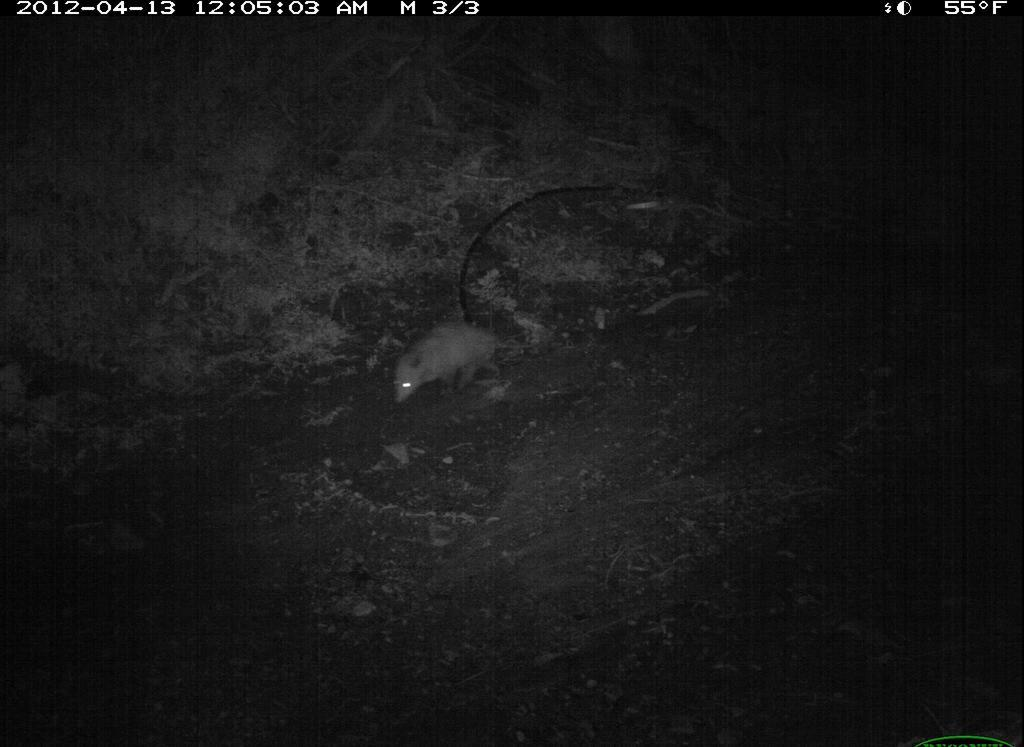opossum: (382, 306, 581, 407)
